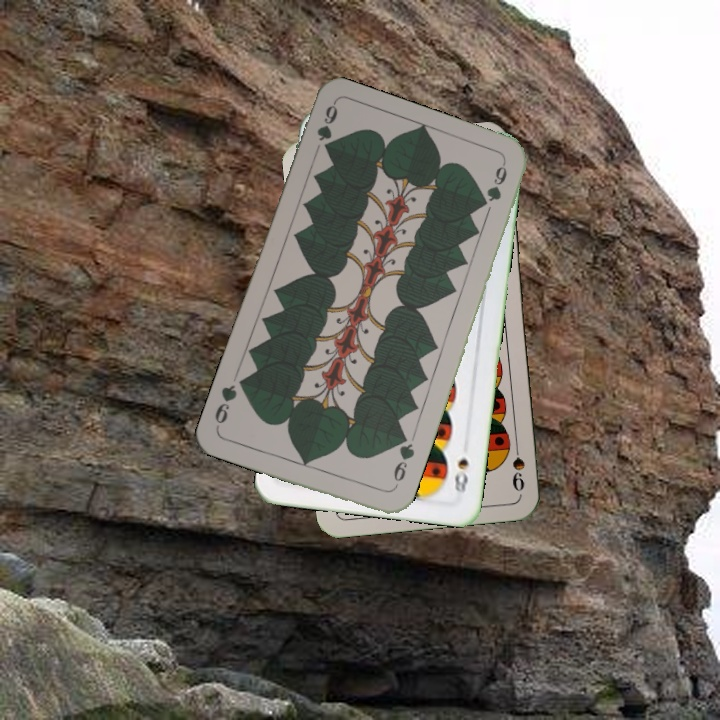G9: (388, 433, 417, 492), (313, 100, 341, 154)
S8: (450, 454, 471, 496)
S9: (508, 435, 527, 494)
